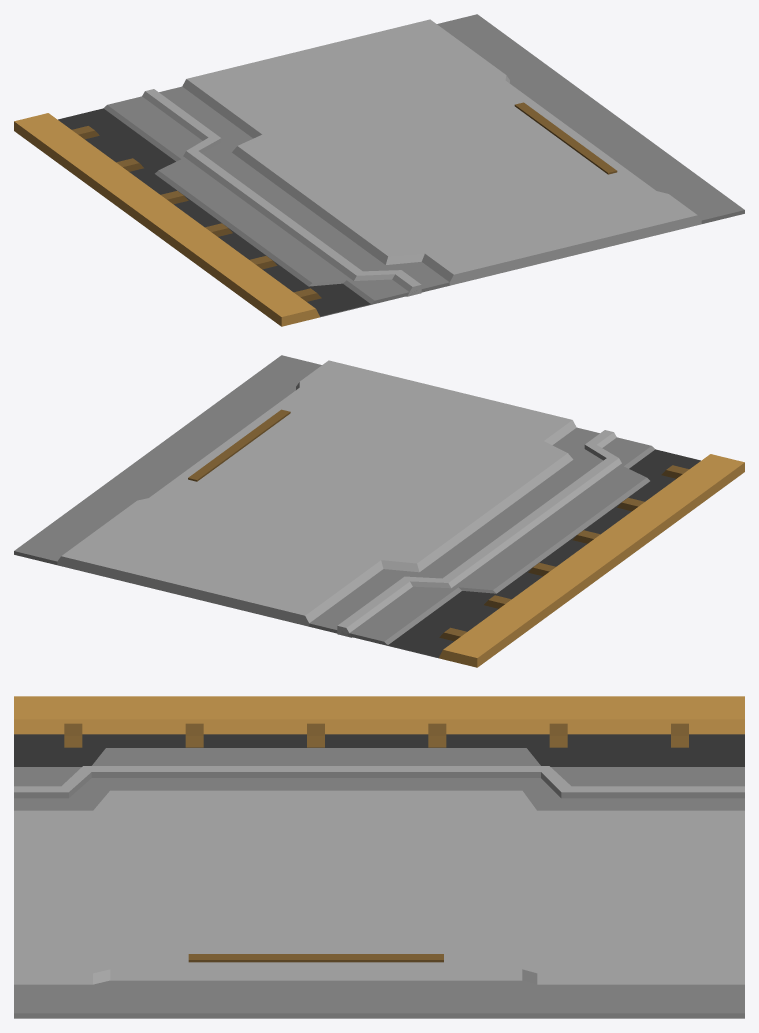
Rendered from FloorTile_Side.gltf.
3 renders of one model, top to bottom at view 1: azimuth 30°, elevation 25°; view 2: azimuth 150°, elevation 25°; view 3: azimuth 270°, elevation 25°, orthographic. The views are drawn at different scales.
Parts seen in each view (by area): view 1: FloorTile_Side; view 2: FloorTile_Side; view 3: FloorTile_Side.
Boxes of the visible parts, x1,y1,x2,y2 form: FloorTile_Side: [14, 14, 744, 326]; FloorTile_Side: [14, 355, 744, 667]; FloorTile_Side: [14, 696, 744, 1018].
Size of the model in its own units: 2 by 0.0685 by 2.
